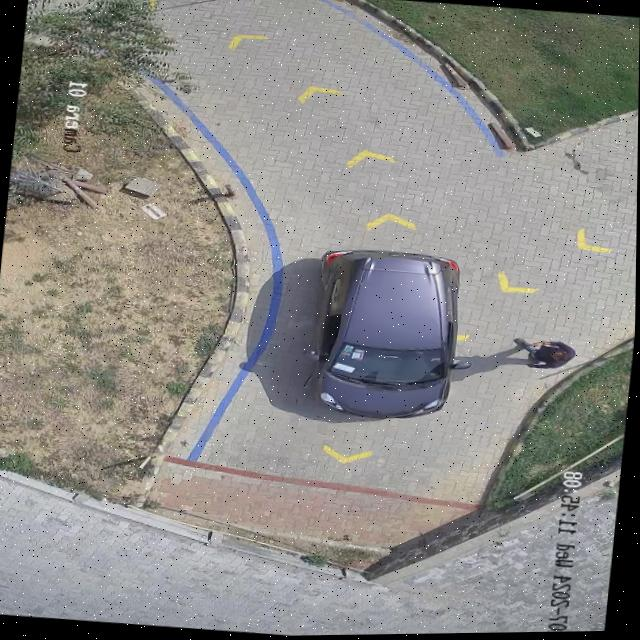car: (308, 249, 462, 422)
